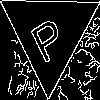P: (24, 9, 69, 65)
